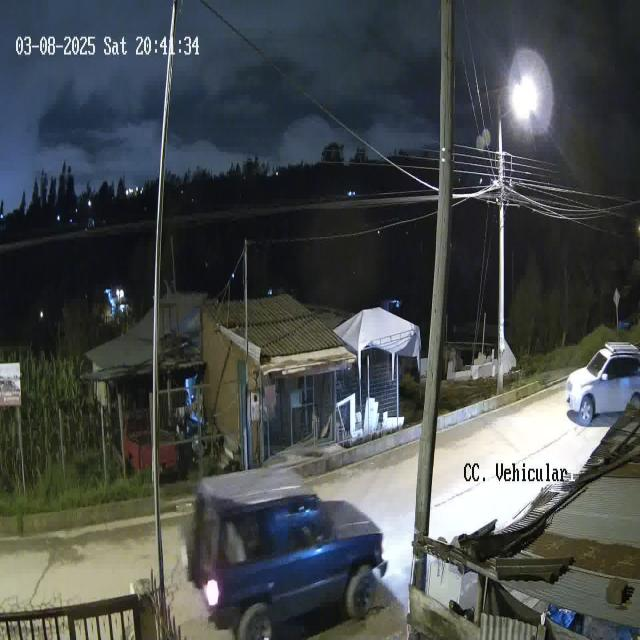SUV: (187, 464, 387, 640), (563, 339, 640, 426)
